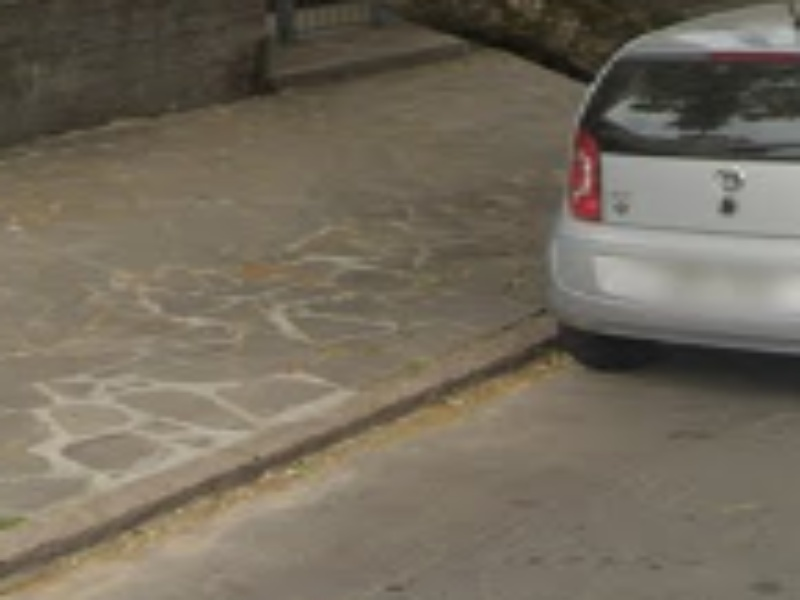v100: (30, 296, 530, 586)
